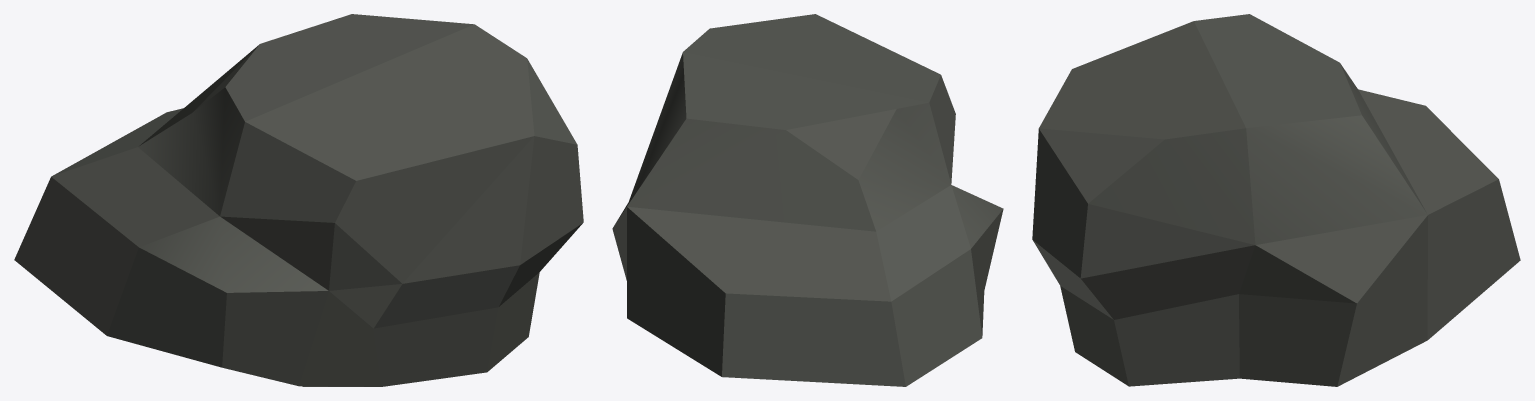
Rendered from Rock_Chunk_01.fbx.
3 views of the same model, side by side, from view 1: azimuth 30°, elevation 25°; view 2: azimuth 150°, elevation 25°; view 3: azimuth 270°, elevation 25° (orthographic). The views are drawn at different scales.
Visible parts, largest first — view 1: Rock_Chunk_01; view 2: Rock_Chunk_01; view 3: Rock_Chunk_01.
Part boxes in pixels (bbox=[...]): Rock_Chunk_01: bbox=[14, 14, 583, 386]; Rock_Chunk_01: bbox=[612, 14, 1003, 386]; Rock_Chunk_01: bbox=[1032, 14, 1520, 386].
Bounding box in the file's own units: 167 × 125 × 189.
